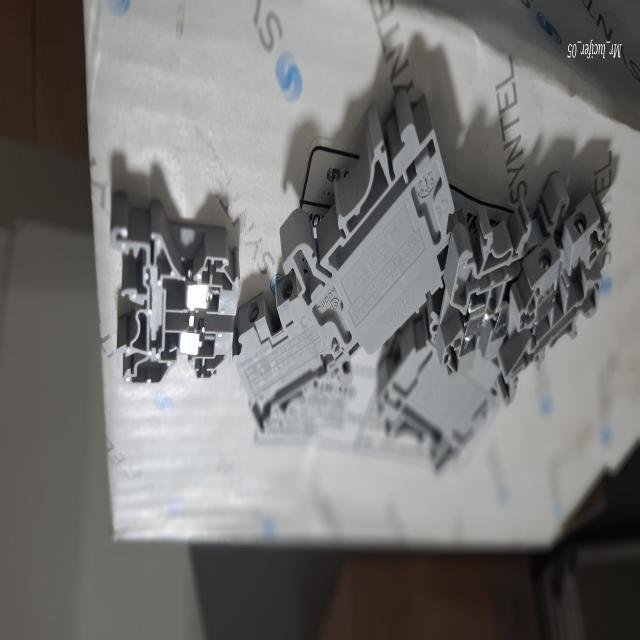Inverted: (234, 253, 350, 442)
Pass: (103, 172, 246, 440)
Reject: (495, 210, 626, 402)
